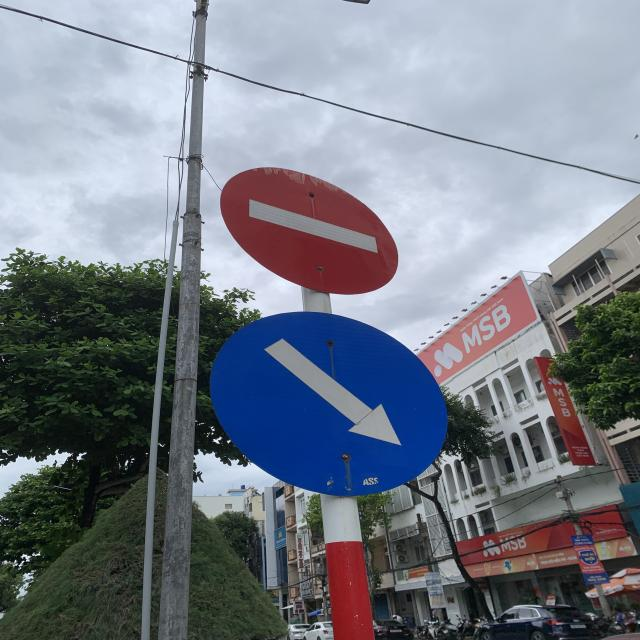Cam_Di_Nguoc_Chieu: (216, 164, 409, 294)
Chi_Huong_Di_Phai: (214, 313, 450, 492)
